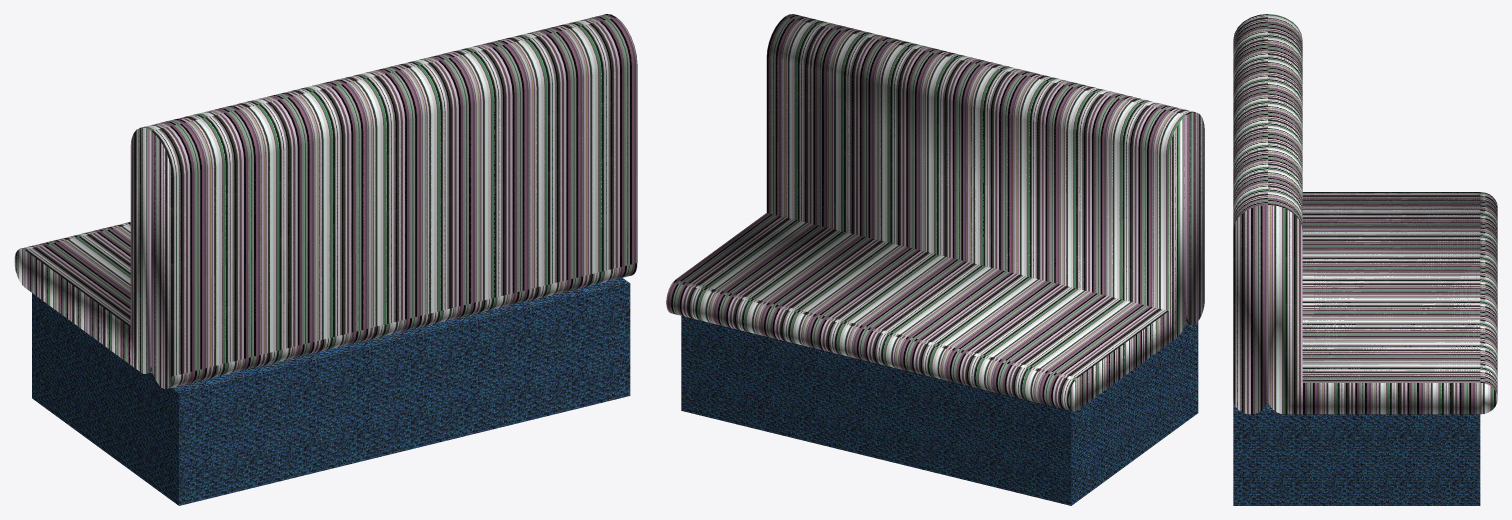
File: wall_sofa.dae
3 renders of one model, left to right at view 1: azimuth 30°, elevation 25°; view 2: azimuth 150°, elevation 25°; view 3: azimuth 270°, elevation 25°, orthographic. The views are drawn at different scales.
Visible parts, largest first — view 1: group_0, group_1; view 2: group_0, group_1 (×2); view 3: group_0, group_1.
Part boxes in pixels (x1,y1,x2,y2): group_0: (14,14,637,388); group_1: (32,278,630,505); group_0: (666,14,1204,411); group_1 (×2): (681,316,1198,505); group_0: (1233,14,1497,414); group_1: (1233,400,1480,505).
Bounding box in the file's own units: 51.18 × 29.97 × 37.99.
3 materials, 3 textured.
